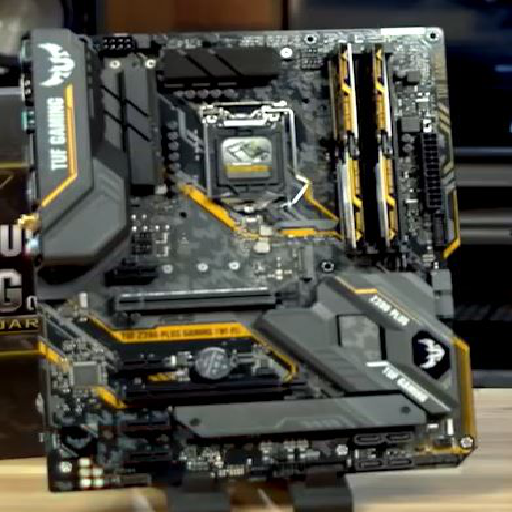CPU: (199, 100, 288, 214)
GPU: (124, 376, 311, 406), (113, 286, 300, 310)
MOTHERBOARD: (21, 27, 479, 471)
RAM: (331, 46, 411, 266)
SSD: (295, 241, 314, 280)
